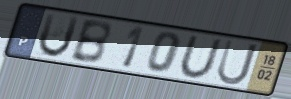0: (145, 30, 183, 76)
1: (119, 25, 146, 70)
B: (67, 19, 112, 66)
U: (214, 37, 260, 87), (177, 34, 224, 81), (36, 12, 82, 60)
